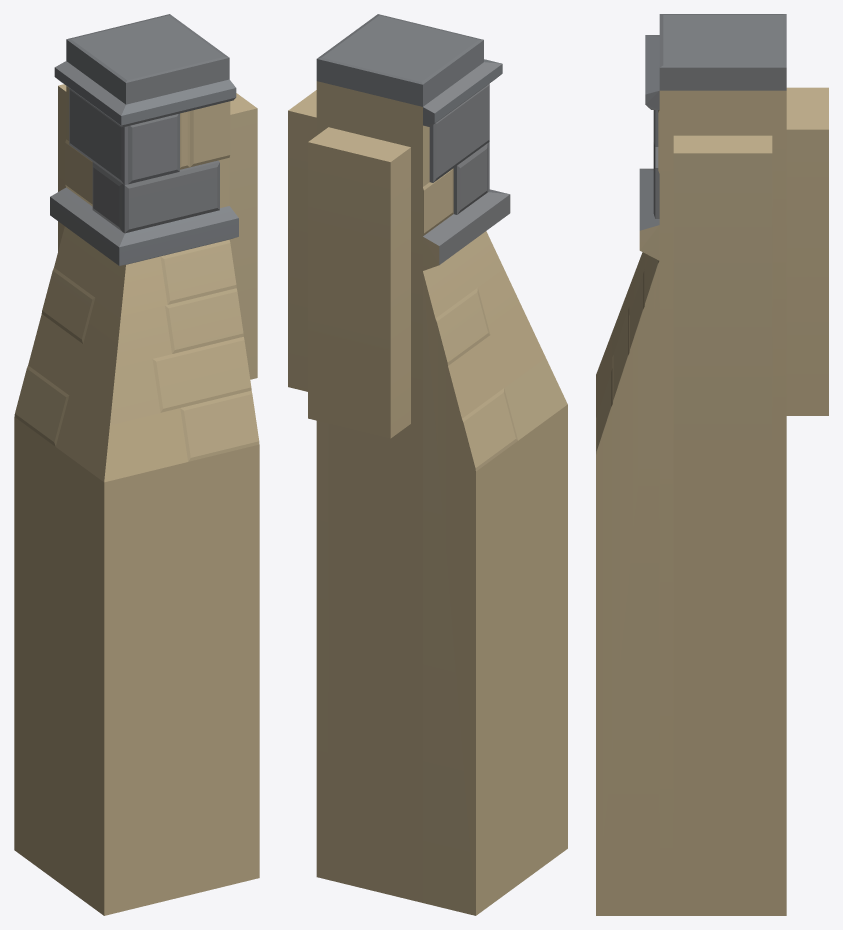
3 renders of one model, left to right at view 1: azimuth 30°, elevation 25°; view 2: azimuth 150°, elevation 25°; view 3: azimuth 270°, elevation 25°, orthographic. The views are drawn at different scales.
Visible parts, largest first — view 1: Mesh_Limestone, Mesh_Granite; view 2: Mesh_Limestone, Mesh_Granite; view 3: Mesh_Limestone, Mesh_Granite.
Part boxes in pixels (box(x1,y1,x2,y2)): Mesh_Limestone: box(14, 84, 259, 915); Mesh_Granite: box(50, 14, 238, 265); Mesh_Limestone: box(288, 81, 567, 915); Mesh_Granite: box(316, 14, 510, 264); Mesh_Limestone: box(596, 87, 828, 915); Mesh_Granite: box(639, 14, 786, 230).
Size of the model in its own units: 1.65 by 6.64 by 1.65.
